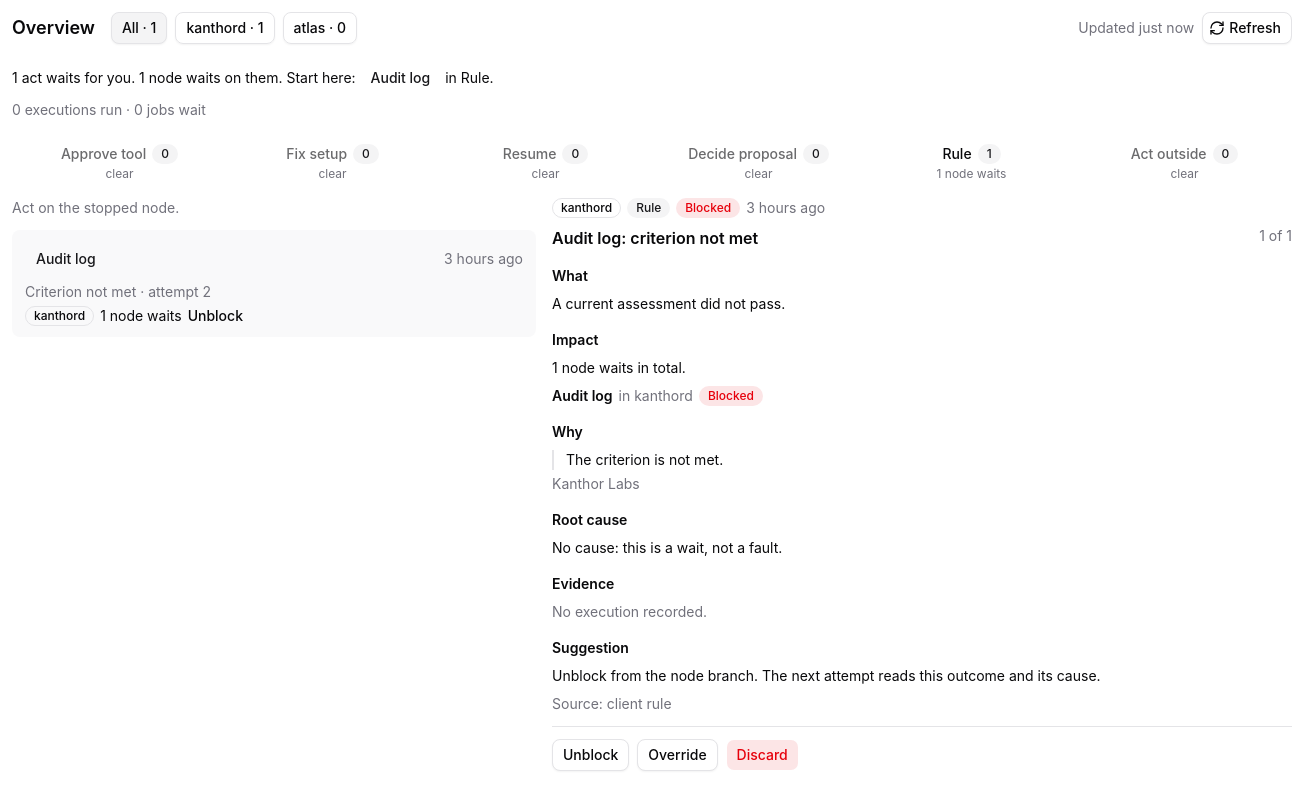
Test: OverviewScreen board › shows the empty tab with a way to the Start here card
Click the tab with aria-label "Act outside, 0 acts, clear".
click(1184, 163)  # box [1080, 139, 1289, 187]
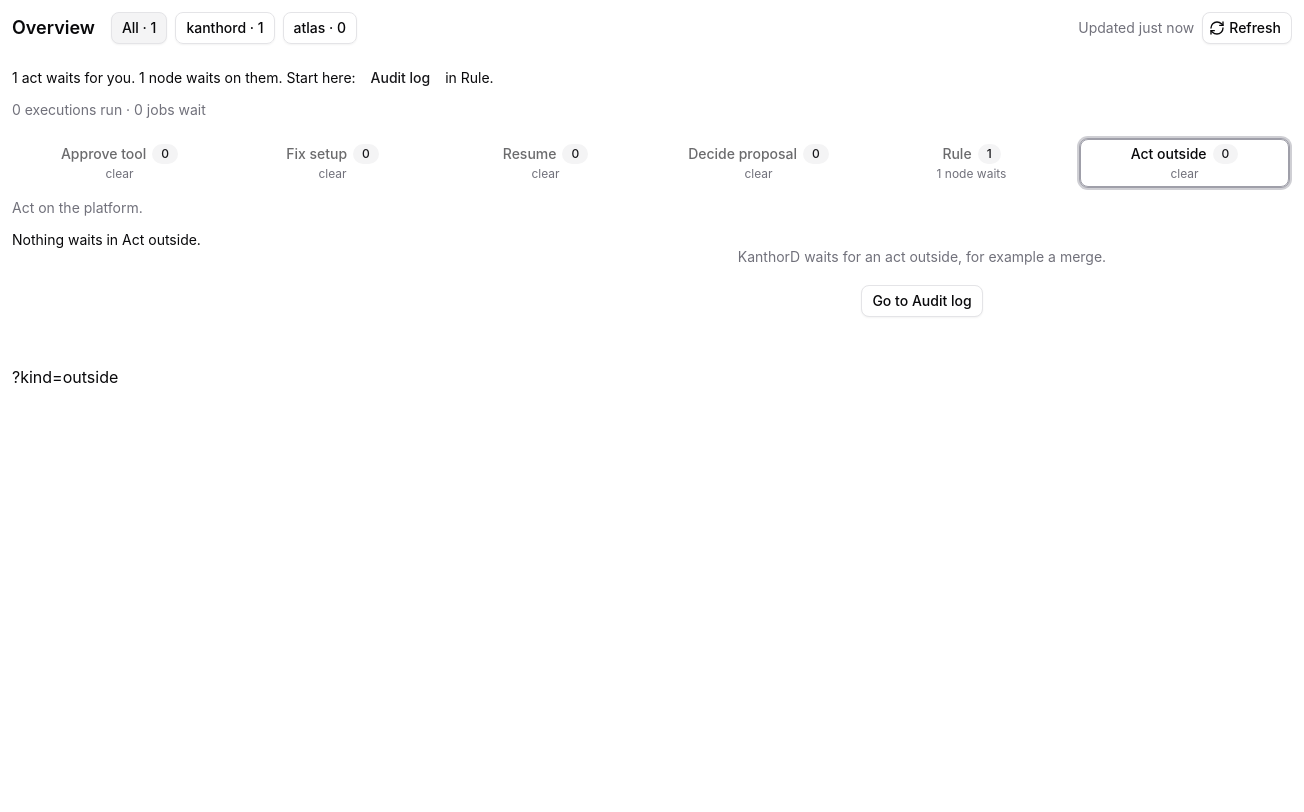
Expected: the text "Nothing waits in Act outside." is shown, [12, 231, 201, 248]
Expected: the button "Go to Audit log" is shown, [861, 285, 983, 317]
